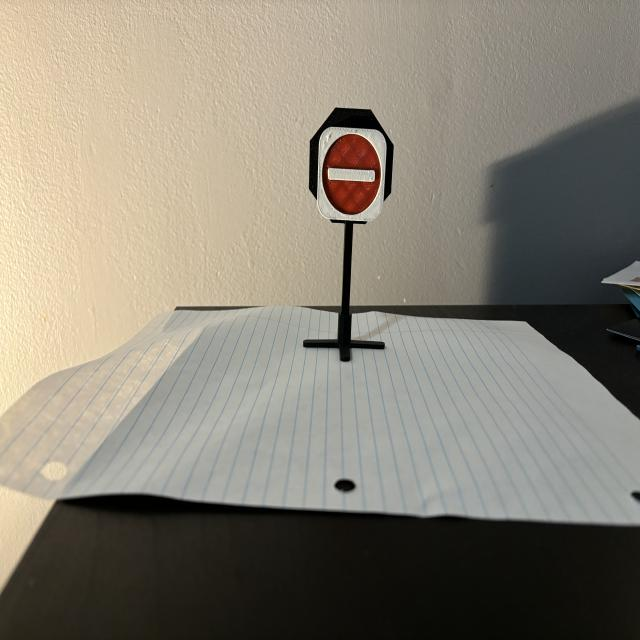sign_noentry: (319, 128, 387, 222)
